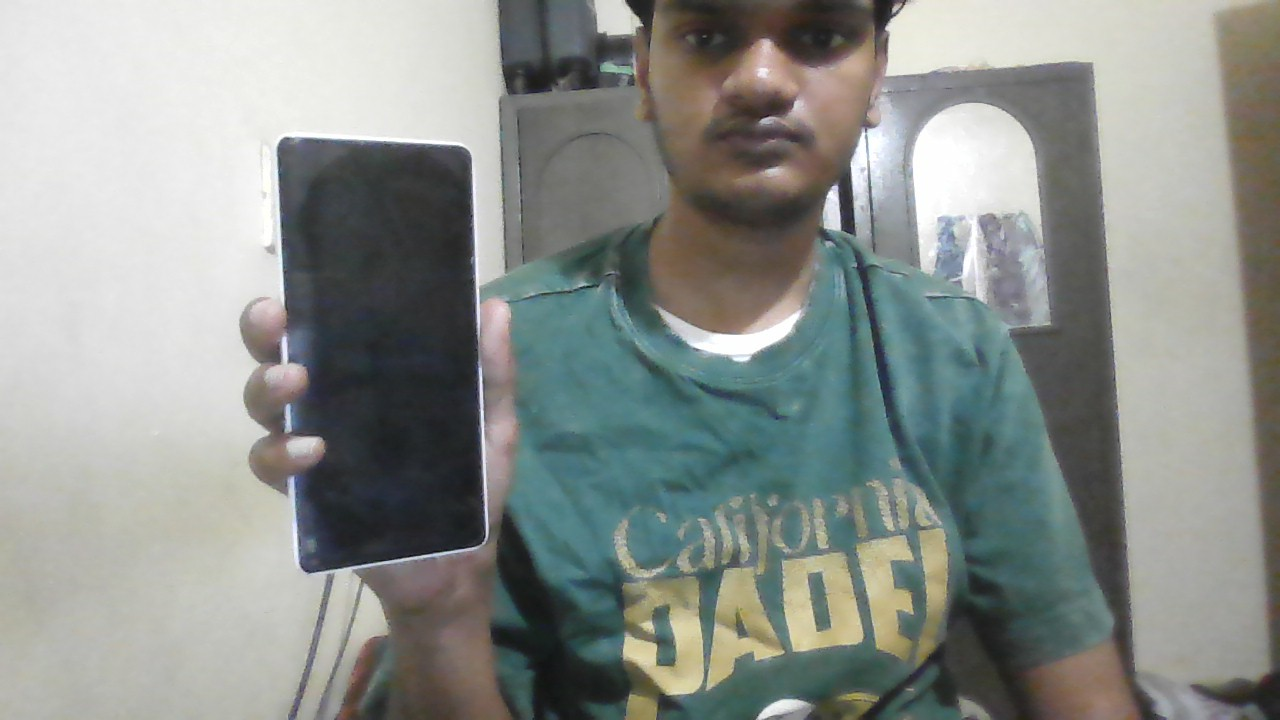phone: (269, 139, 497, 531)
